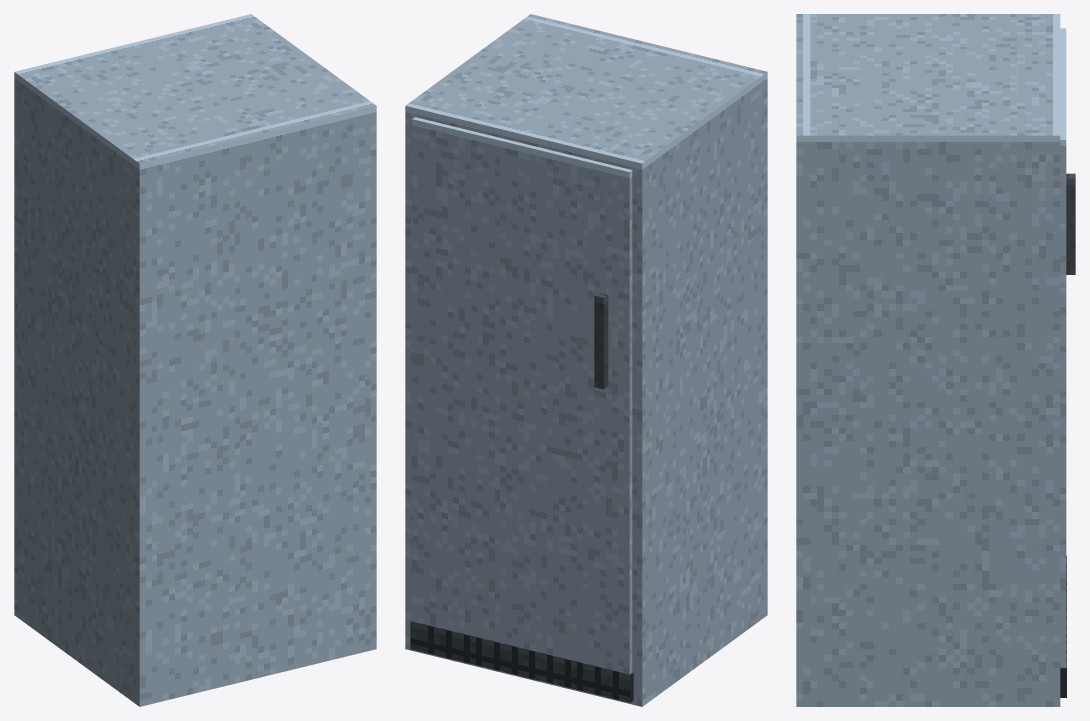
The model's file is f_heavy_duty_freezer.glb.
3 renders of one model, left to right at view 1: azimuth 30°, elevation 25°; view 2: azimuth 150°, elevation 25°; view 3: azimuth 270°, elevation 25°, orthographic. The views are drawn at different scales.
Visible parts, largest first — view 1: block_back, block_side--0.39, block_shelf-1, block_side-0.39; view 2: block_door-0, block_side--0.39, block_shelf-1, block_vent-kickplate, block_side-0.39, block_back, block_pull-0; view 3: block_side-0.39, block_shelf-1, block_back, block_door-0, block_side--0.39, block_pull-0.
Boxes of the visible parts, <box> form: block_back: <box>133,101,376,706</box>; block_side--0.39: <box>14,68,149,701</box>; block_shelf-1: <box>31,18,352,154</box>; block_side-0.39: <box>234,14,369,104</box>; block_door-0: <box>412,117,632,673</box>; block_side--0.39: <box>625,72,761,706</box>; block_shelf-1: <box>422,23,743,168</box>; block_vent-kickplate: <box>410,620,633,702</box>; block_side-0.39: <box>405,19,540,652</box>; block_back: <box>524,14,767,619</box>; block_pull-0: <box>594,292,608,389</box>; block_side-0.39: <box>810,127,1060,706</box>; block_shelf-1: <box>810,22,1060,126</box>; block_back: <box>796,14,810,706</box>; block_door-0: <box>1060,28,1066,667</box>; block_side--0.39: <box>810,14,1060,22</box>; block_pull-0: <box>1066,173,1075,274</box>.
Bounding box in the file's own units: 0.84 × 1.84 × 0.8145.
Materials: 1 (1 with a texture image).
